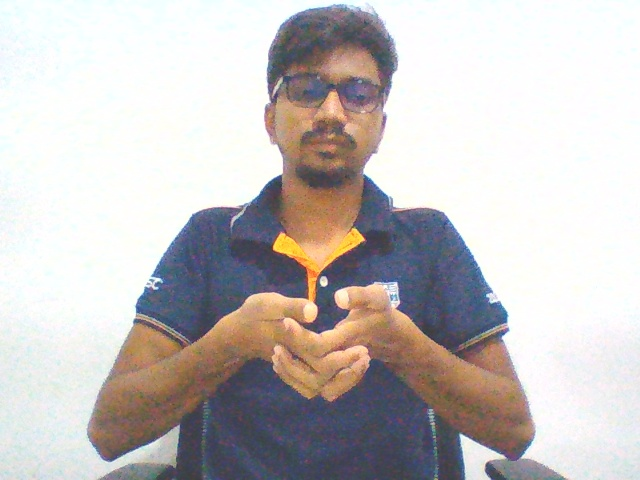mangosteen: (216, 276, 412, 406)
